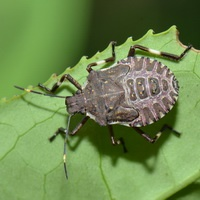insect: (16, 34, 199, 178), (150, 136, 188, 173)
